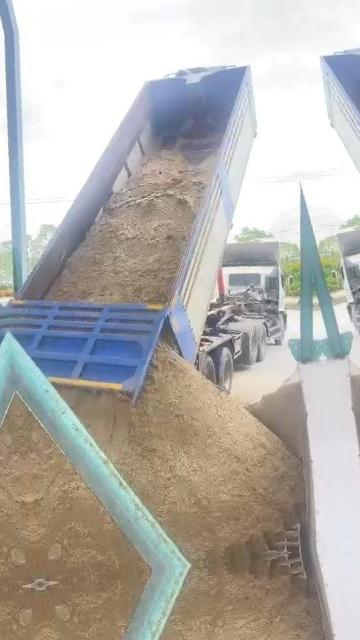sand: (61, 327, 302, 564), (48, 151, 214, 303), (16, 396, 140, 582), (247, 371, 303, 455)
